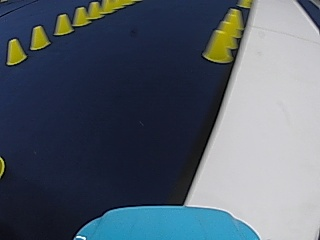cone: (201, 17, 235, 62), (211, 8, 245, 51), (5, 38, 26, 64), (29, 25, 49, 49), (53, 13, 72, 35), (72, 6, 88, 26), (87, 1, 100, 19)
